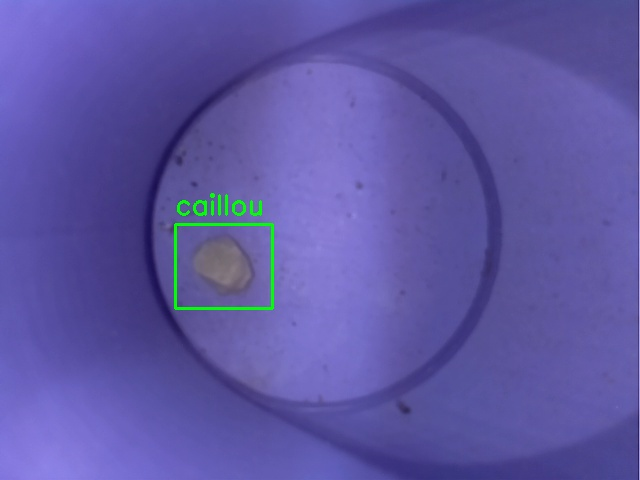caillou: (175, 224, 272, 308)
